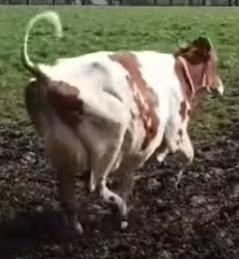cow: (25, 38, 224, 232)
